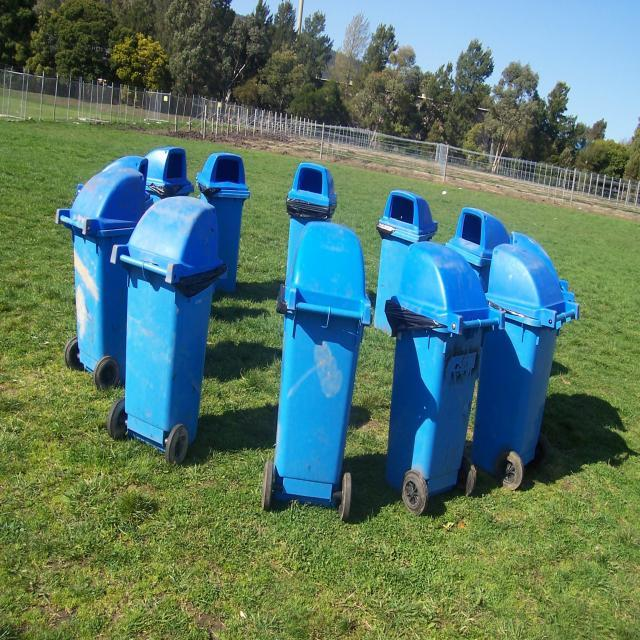bin: (374, 221, 485, 525), (267, 203, 357, 518), (491, 233, 582, 500), (118, 188, 205, 456)
